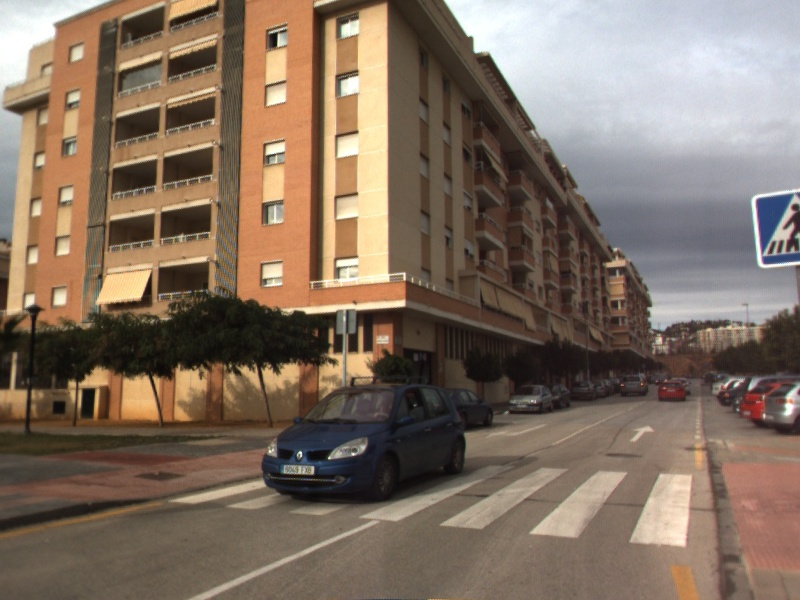STRAIGHT: (628, 423, 657, 444)
